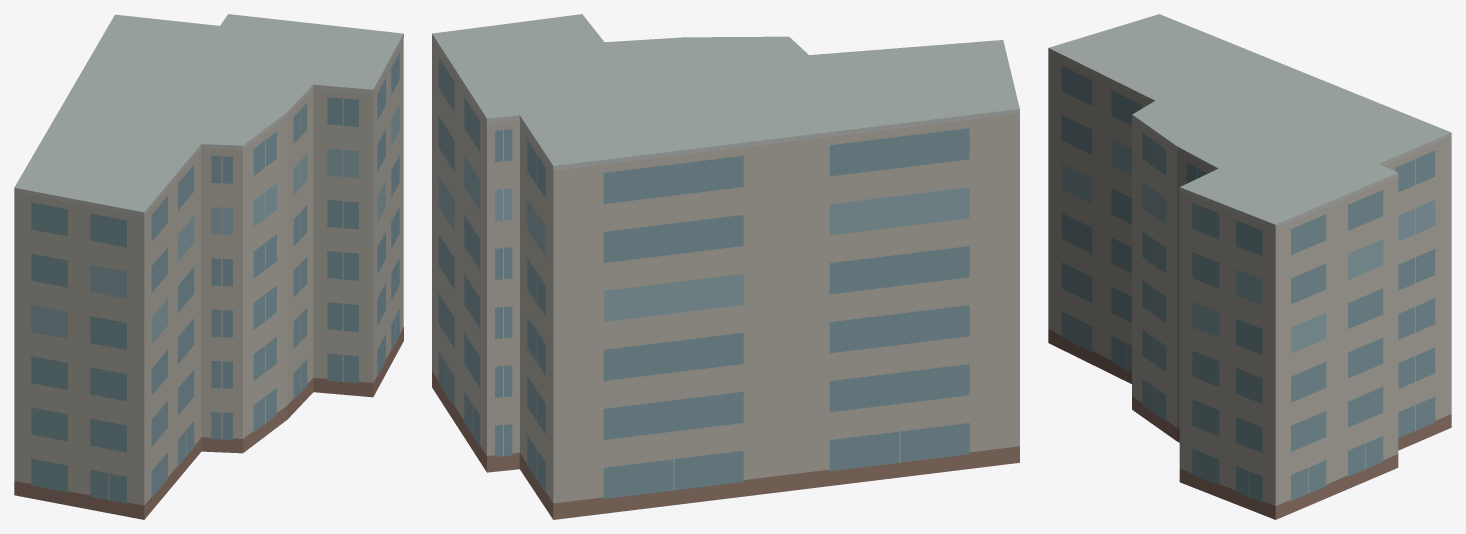
The model's file is survey-upis-32846344.glb.
3 renders of one model, left to right at view 1: azimuth 30°, elevation 25°; view 2: azimuth 150°, elevation 25°; view 3: azimuth 270°, elevation 25°, orthographic. The views are drawn at different scales.
Visible parts, largest first — view 1: survey-upis-32846344.tmp; view 2: survey-upis-32846344.tmp; view 3: survey-upis-32846344.tmp.
Boxes of the visible parts, x1=… form: survey-upis-32846344.tmp: x1=14, y1=14, x2=403, y2=519; survey-upis-32846344.tmp: x1=432, y1=14, x2=1019, y2=519; survey-upis-32846344.tmp: x1=1048, y1=14, x2=1451, y2=519.
Bounding box in the file's own units: 28.2 × 18.4 × 22.79.
